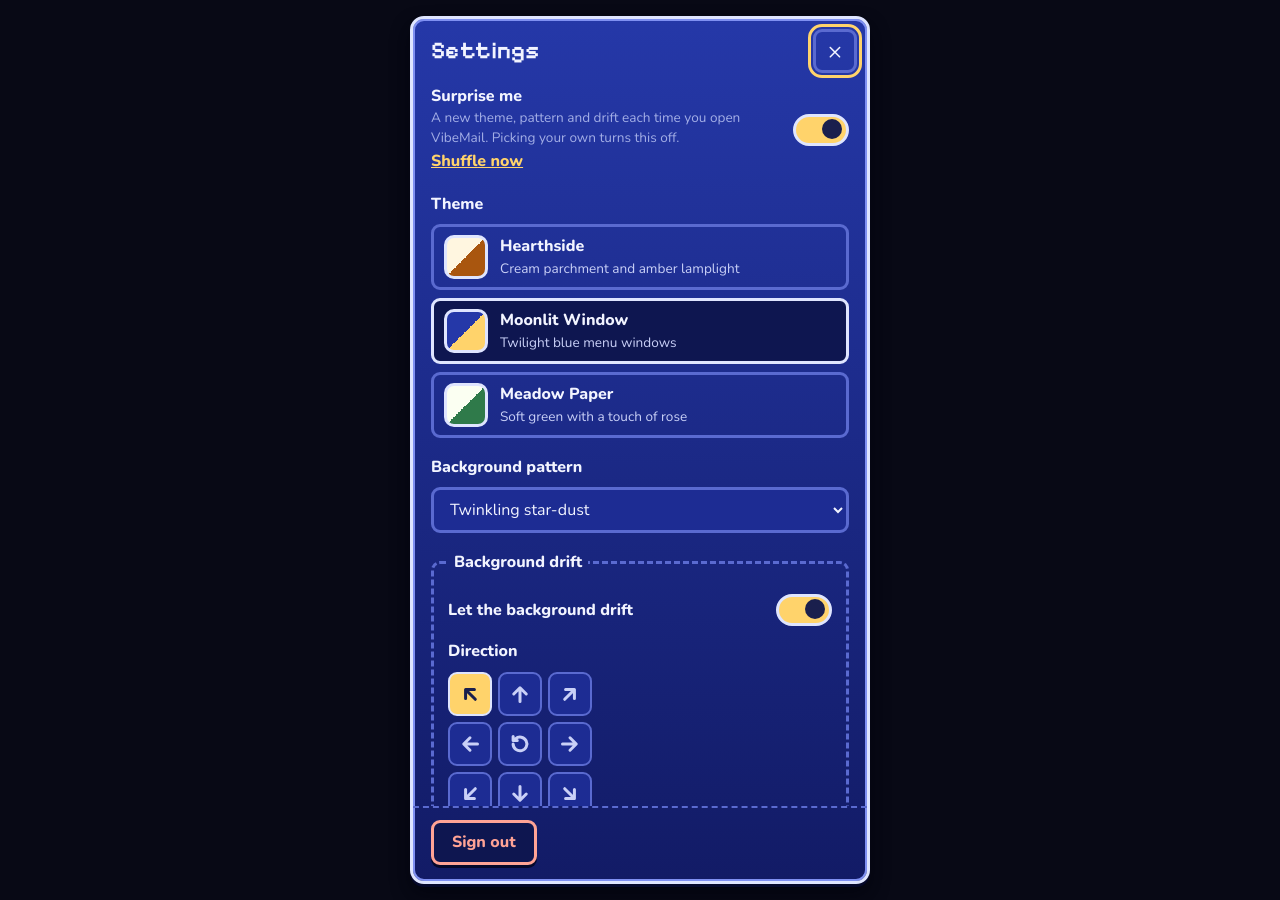
Test: Surprise me includes the drift › keeps everything on screen, drift included, when you switch Surprise me off
What coordinates should you click on to do the following:
click the 1st switch named "Surprise me"
I would click on:
 (821, 130)
Its box is [793,114,849,146].
(page scrolled)
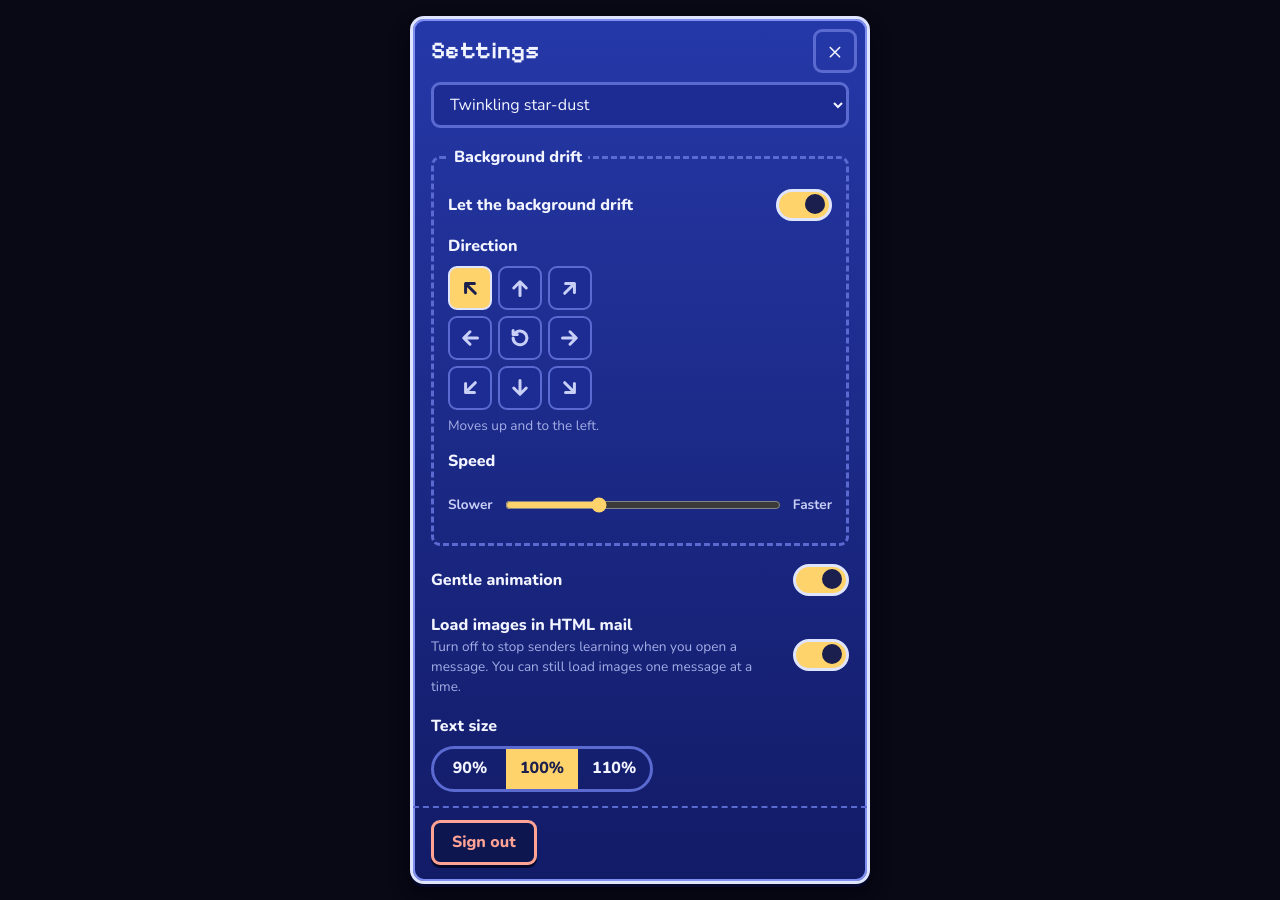
Expected: the radio button named "Drift up and to the left" is checked, [448,266,492,310]
Now the slider labelled "Speed" holds "4", box [505,483,781,527]
